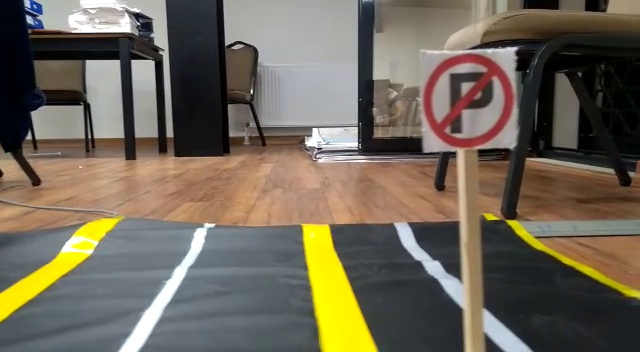park_yapilmaz: (417, 49, 518, 148)
